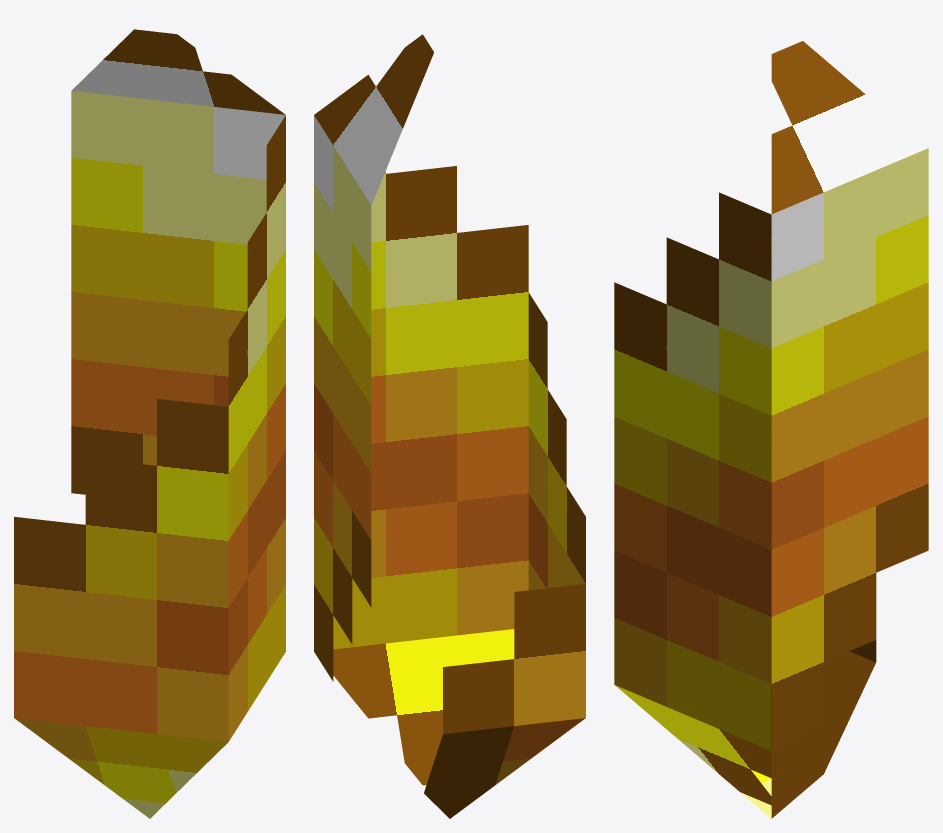
File: Lightstone.obj
3 views of the same model, side by side, from view 1: azimuth 30°, elevation 25°; view 2: azimuth 150°, elevation 25°; view 3: azimuth 270°, elevation 25° (orthographic).
Visible parts, largest first — view 1: Lightstone; view 2: Lightstone; view 3: Lightstone.
Part boxes in pixels (box(x1,y1,x2,y2)): Lightstone: box(14, 29, 285, 818); Lightstone: box(314, 34, 585, 818); Lightstone: box(614, 41, 928, 818).
Bounding box in the file's own units: 0.2652 × 0.75 × 0.2652.
